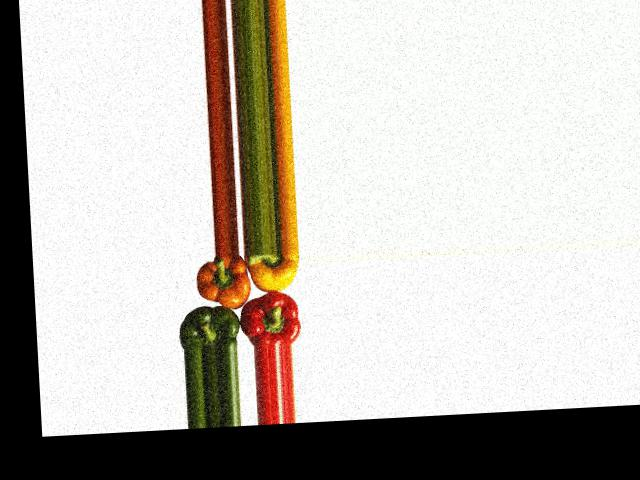bell_pepper: (241, 251, 302, 296)
